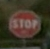stop: (8, 9, 41, 38)
